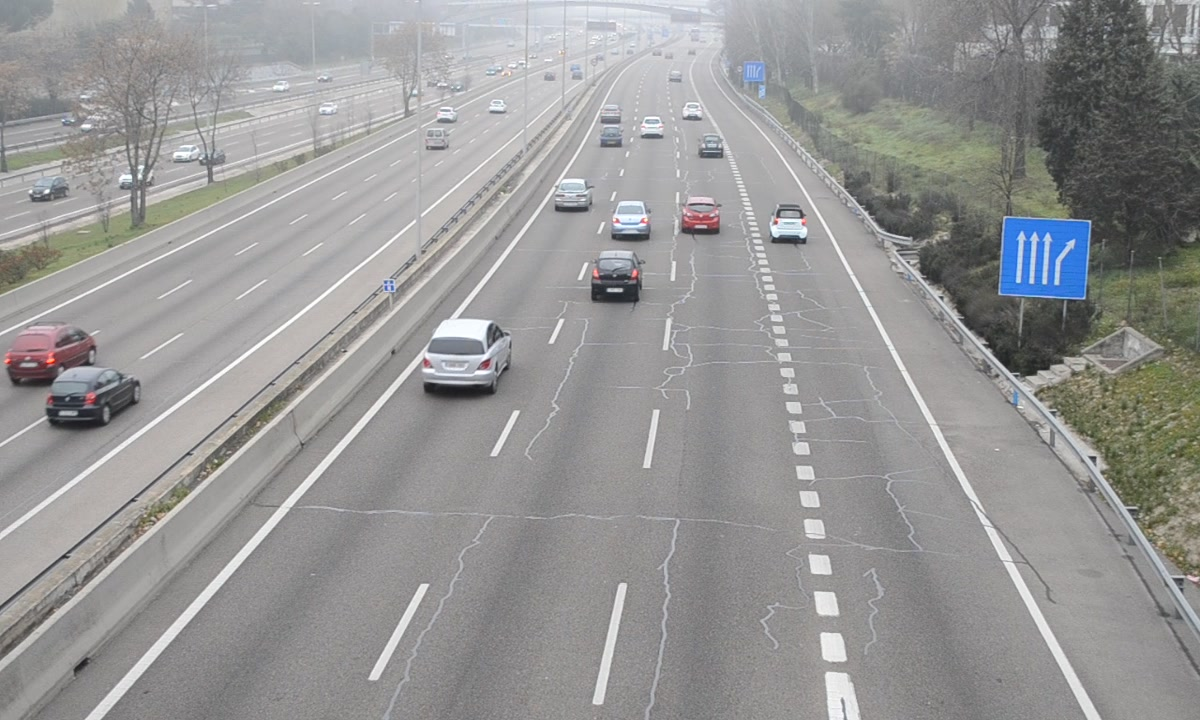car: (420, 319, 512, 389), (590, 249, 641, 302), (682, 195, 723, 236), (611, 201, 652, 241), (770, 203, 809, 244), (552, 177, 595, 212), (698, 134, 725, 160), (639, 114, 666, 139), (598, 126, 623, 149)
